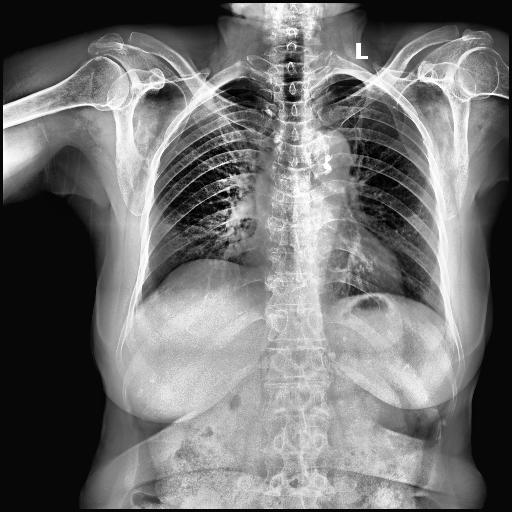0- Aortic enlargement: (302, 125, 356, 191), (302, 130, 351, 186), (310, 128, 352, 184)
3- Cardiomegaly: (240, 238, 406, 302)
